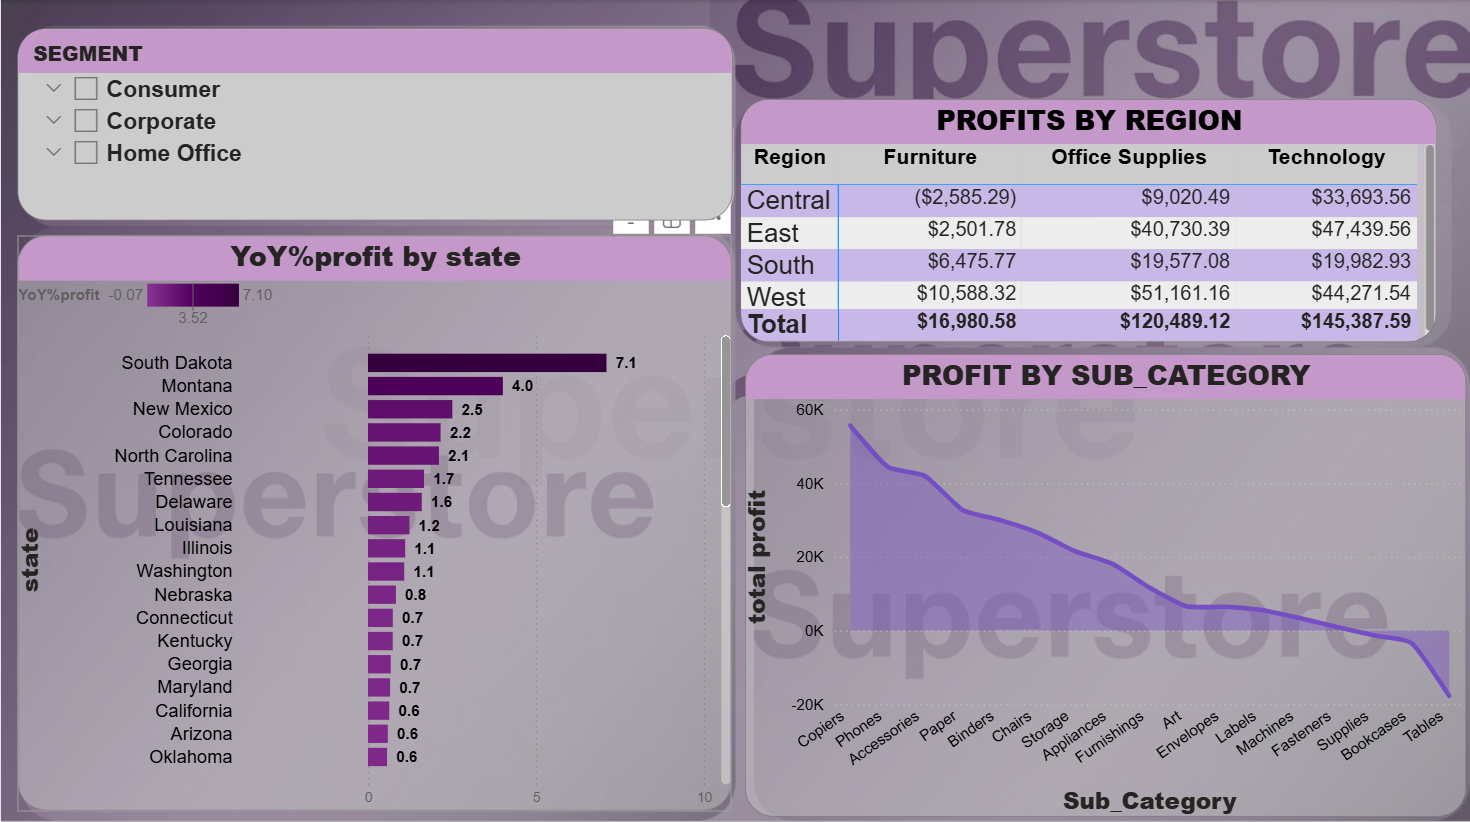

This screenshot's page, from the dashboard's own definition file:
{"tool":"powerbi","page":{"name":"STATE_VIEW","canvas":[1280,720],"ordinal":0},"visuals":[{"type":"slicer","title":"ORDER_DATE","fields":{"Values":["superstoreS.Order_Date"]},"box":[392.9,91.1,247.1,101.3],"z":0},{"type":"barChart","fields":{"Category":["superstoreS.state"],"Y":["superstoreS.YoY%profit"]},"box":[14.3,205.7,622.9,501.4],"z":1000},{"type":"pivotTable","title":"PROFITS BY REGION","fields":{"Columns":["superstoreS.Category"],"Values":["Sum(superstoreS.Profit)"],"Rows":["superstoreS.Region"]},"box":[645,86.7,606.7,211.7],"z":2000},{"type":"areaChart","title":"PROFIT BY SUB_CATEGORY","fields":{"Category":["superstoreS.Sub_Category"],"Y":["superstoreS.total profit"]},"box":[648.3,308.3,628.3,403.3],"z":3000},{"type":"slicer","title":"SEGMENT","fields":{"Values":["superstoreS.Segment","superstoreS.Category","superstoreS.Sub_Category","superstoreS.Product_Name","superstoreS.Quantity"]},"box":[14.6,25.1,623.3,167.3],"z":4000}]}

Visuals, with their boxes in screenshot pixels (x1, y1, x2, y2), scaled from the page's 1280x720 canvas onto the 1470x822 screenshot:
"ORDER_DATE" slicer: (451, 104, 735, 220)
barChart - superstoreS.state x superstoreS.YoY%profit: (16, 235, 732, 807)
"PROFITS BY REGION" pivotTable: (741, 99, 1437, 341)
"PROFIT BY SUB_CATEGORY" areaChart: (745, 352, 1466, 812)
"SEGMENT" slicer: (17, 29, 733, 220)
